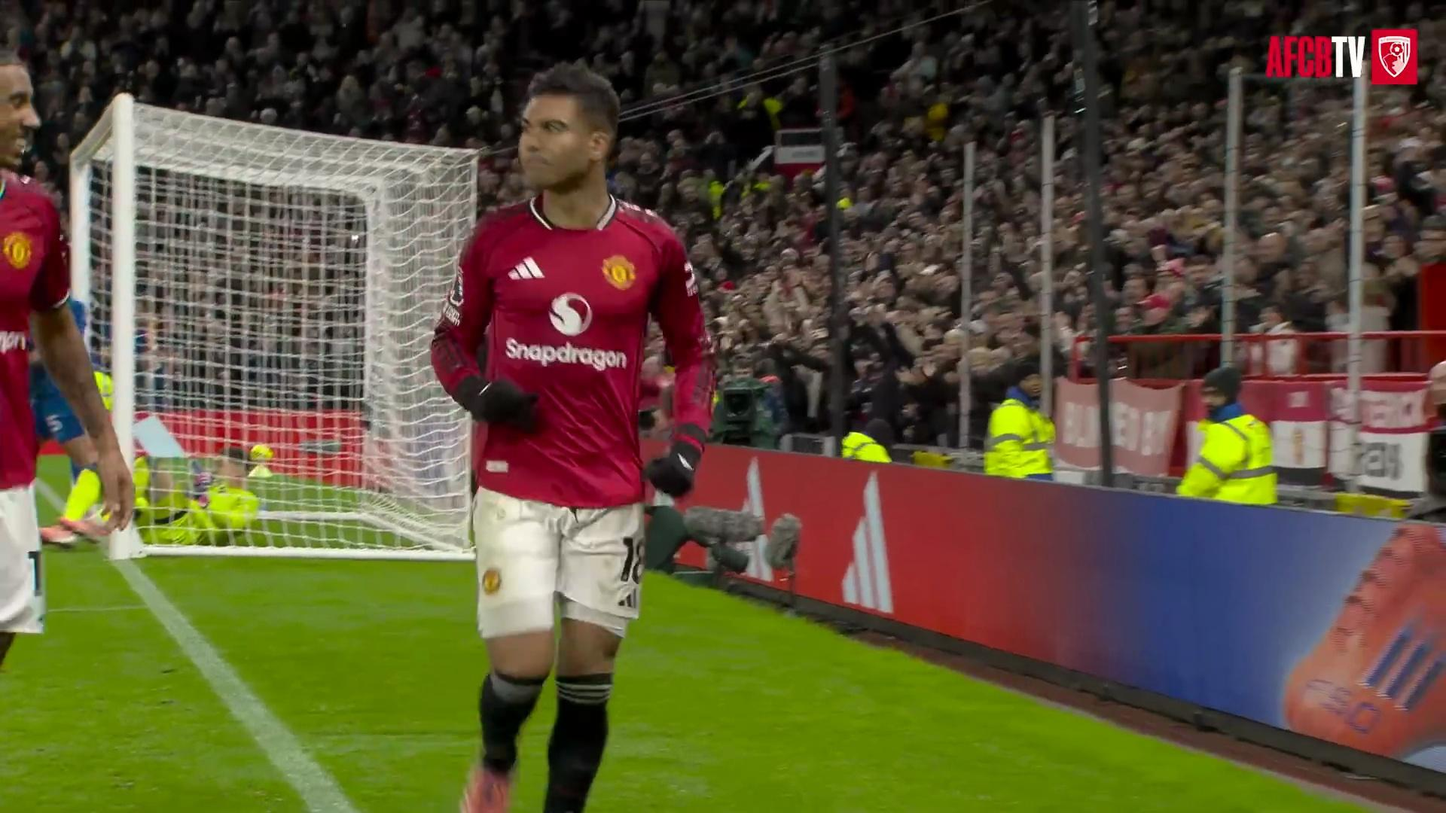player: (432, 65, 713, 812), (0, 52, 133, 661), (29, 349, 100, 545), (134, 447, 259, 544)
